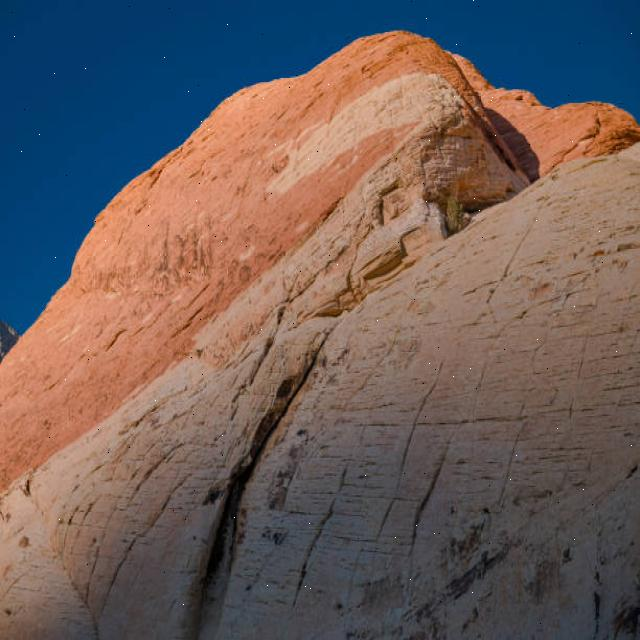Sedimentary: (1, 53, 639, 640)
